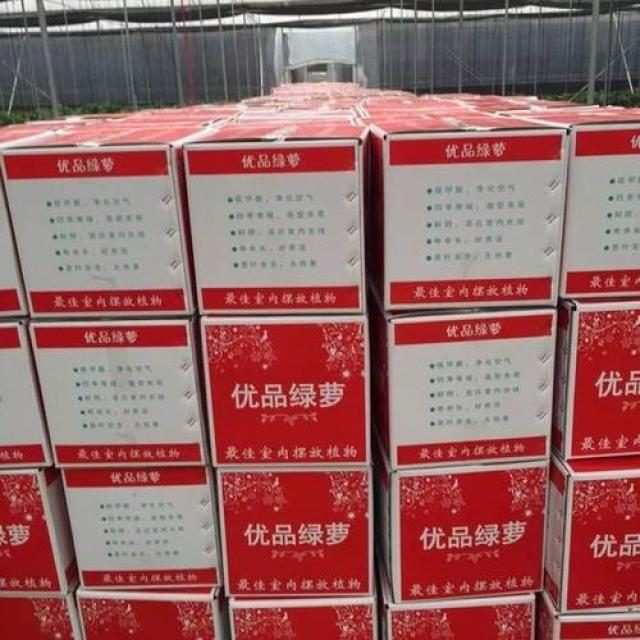box: (0, 123, 218, 321), (365, 115, 571, 314), (367, 274, 559, 468), (180, 122, 370, 316), (371, 421, 550, 604), (28, 315, 210, 466), (197, 315, 371, 466), (511, 106, 640, 298), (216, 466, 375, 598), (60, 465, 223, 590), (543, 451, 640, 613), (375, 541, 535, 639), (550, 297, 640, 461), (0, 467, 79, 596), (74, 586, 230, 639), (0, 317, 52, 470), (227, 594, 379, 639), (535, 591, 640, 639), (0, 577, 81, 639), (29, 101, 243, 122), (0, 169, 29, 319), (422, 92, 600, 115), (357, 95, 502, 123), (243, 81, 413, 101), (236, 97, 365, 122), (0, 123, 78, 152)
